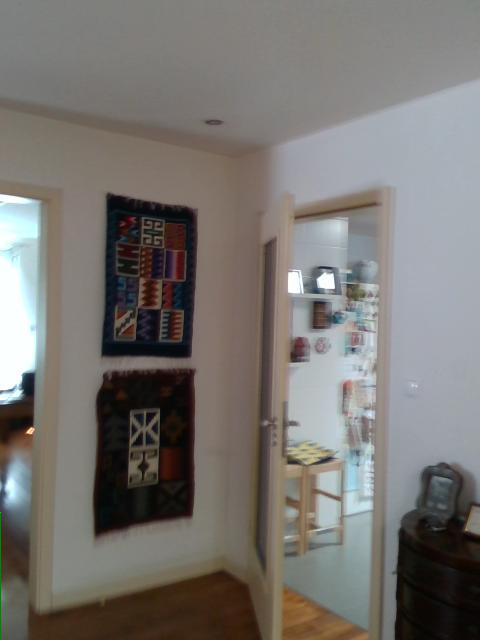semi_door: (243, 180, 395, 639)
